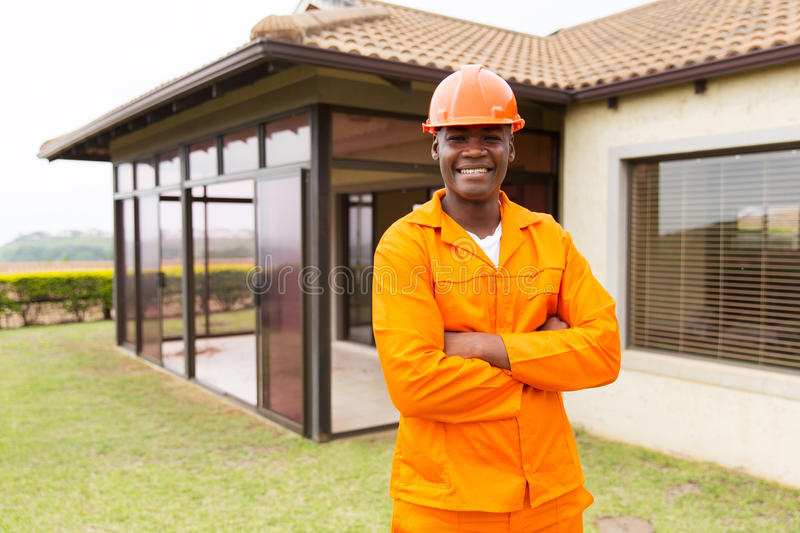safetyhat: (363, 56, 596, 530)
